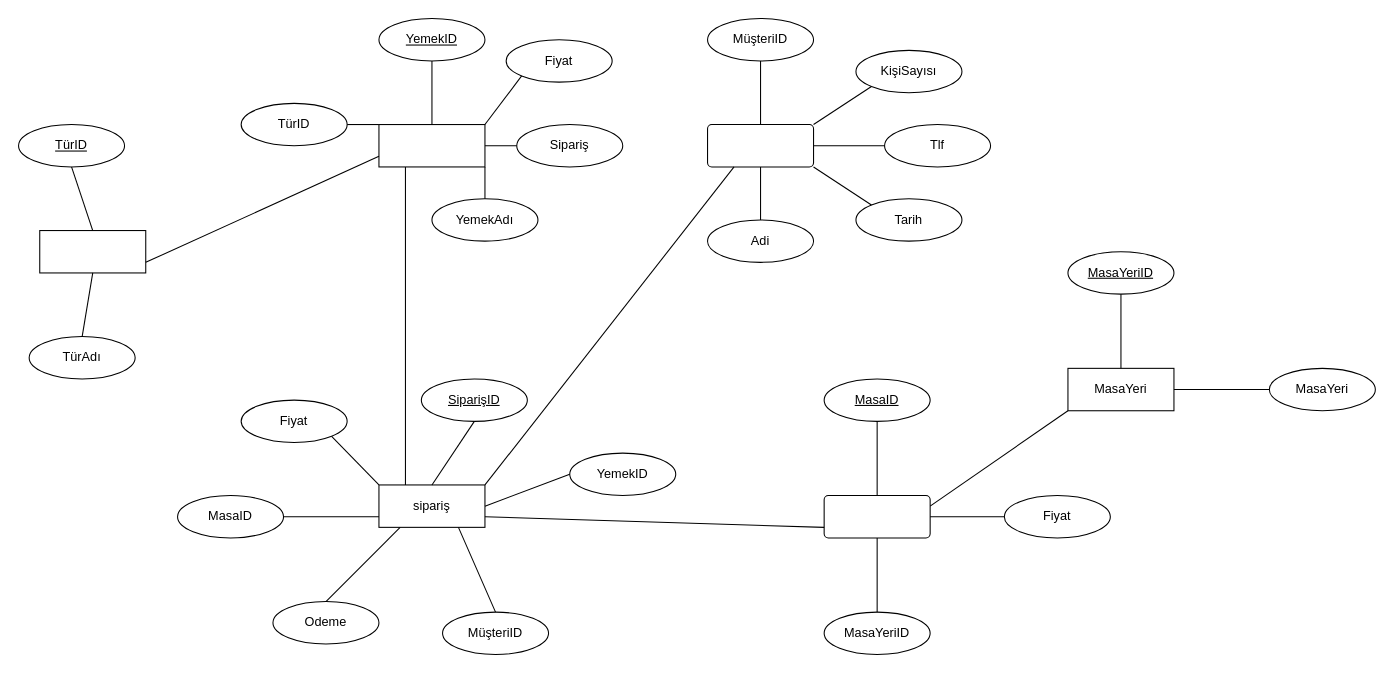
This 1394x673 diagram has some shape labels left out. The shapes that lost their labels are listed below. From the top down, each one's centre as x and y in pixels, then its label:
At point (431, 145): "Yemek".
At point (760, 145): "Müşteri".
At point (92, 251): "YemekTürü".
At point (876, 516): "Masa".
